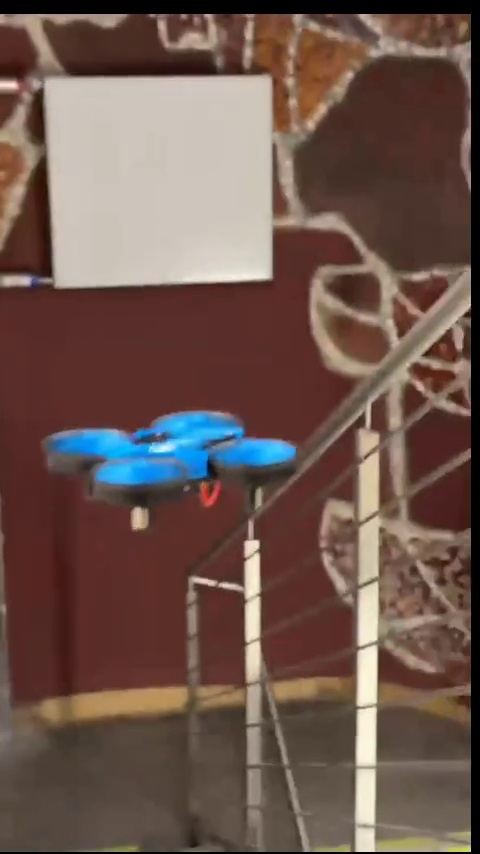drone: (42, 411, 301, 532)
